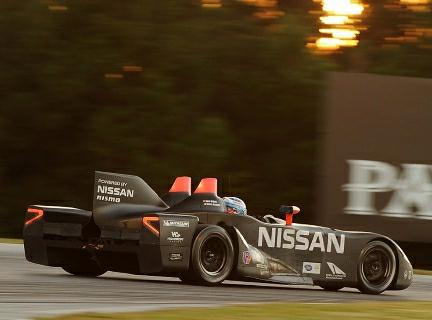car: (19, 153, 417, 303)
